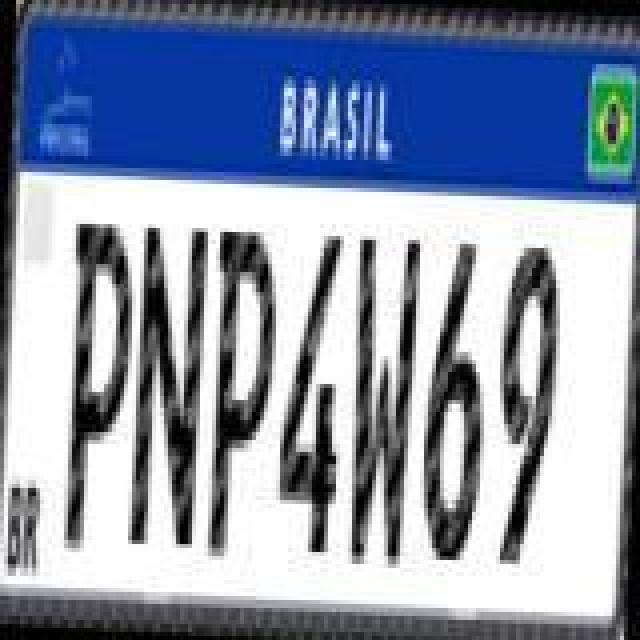4: (272, 226, 352, 558)
6: (414, 234, 498, 566)
9: (488, 234, 568, 566)
N: (124, 216, 212, 552)
P: (54, 212, 138, 556), (198, 226, 282, 558)
W: (342, 232, 426, 568)
